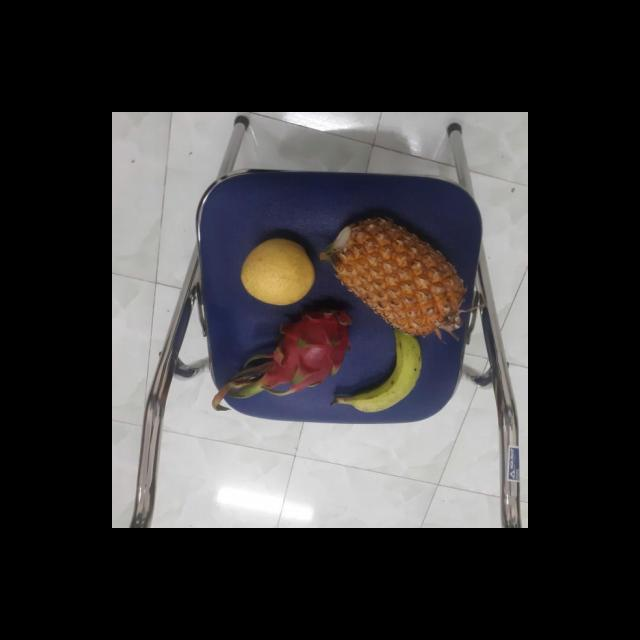banana: (340, 330, 427, 414)
pear: (239, 235, 320, 303)
pineapple: (324, 218, 467, 338)
pitaya: (262, 304, 356, 394)
